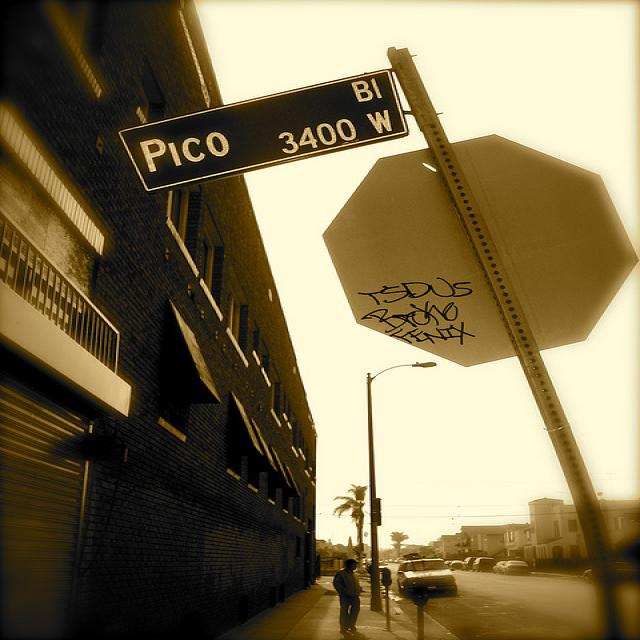Vehicle: (397, 558, 458, 599), (498, 561, 530, 577), (472, 557, 498, 572), (461, 557, 479, 571), (449, 560, 469, 572), (492, 561, 508, 574), (378, 559, 389, 571)
